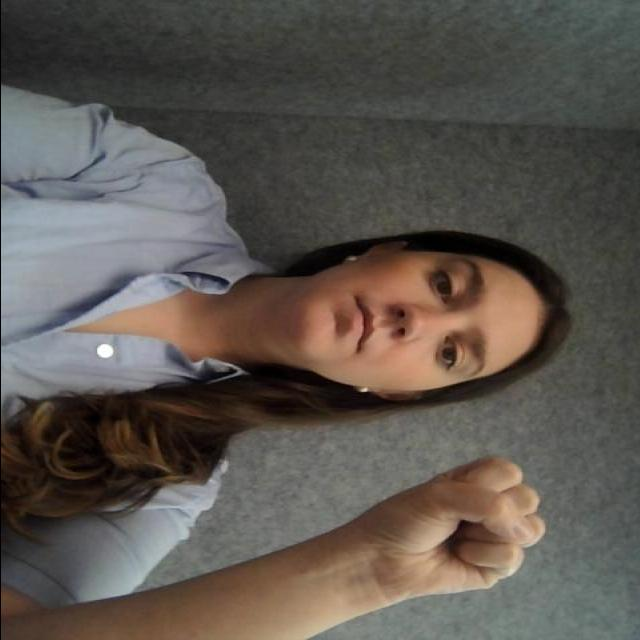Rock: (340, 437, 560, 613)
